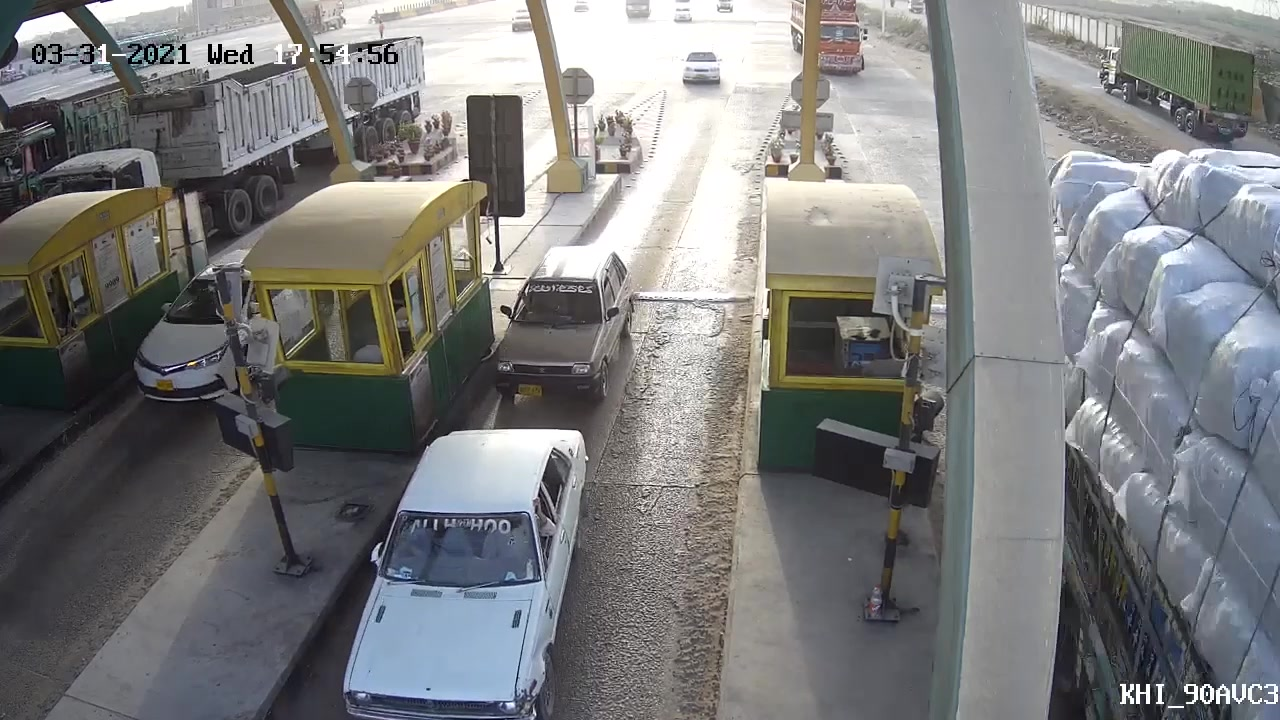F1: (485, 242, 640, 401)
